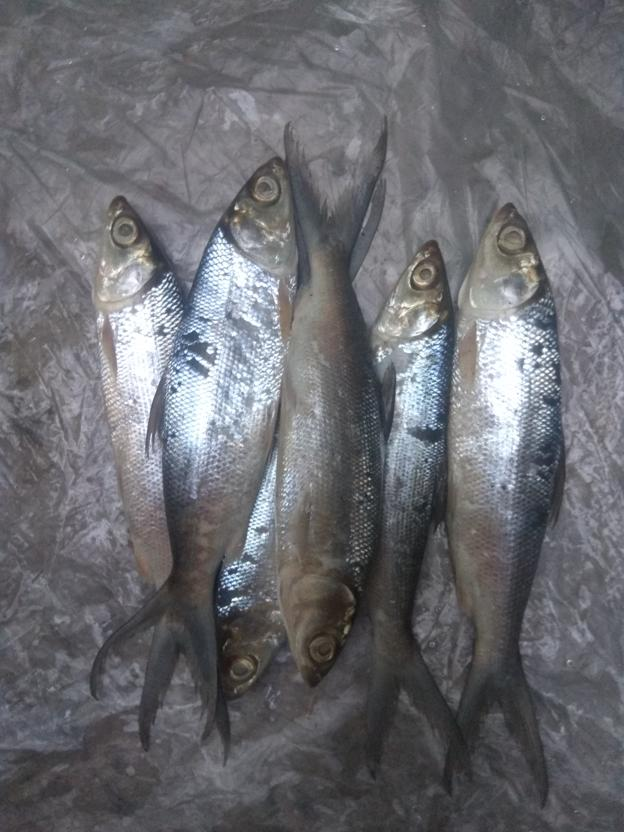Fish head: (455, 203, 551, 313), (221, 155, 302, 275), (280, 572, 361, 689), (92, 194, 169, 307), (375, 239, 455, 343), (217, 611, 287, 702)
Fish tail: (87, 575, 220, 744), (441, 648, 554, 811), (365, 638, 477, 789), (282, 117, 392, 264), (139, 616, 210, 755)
